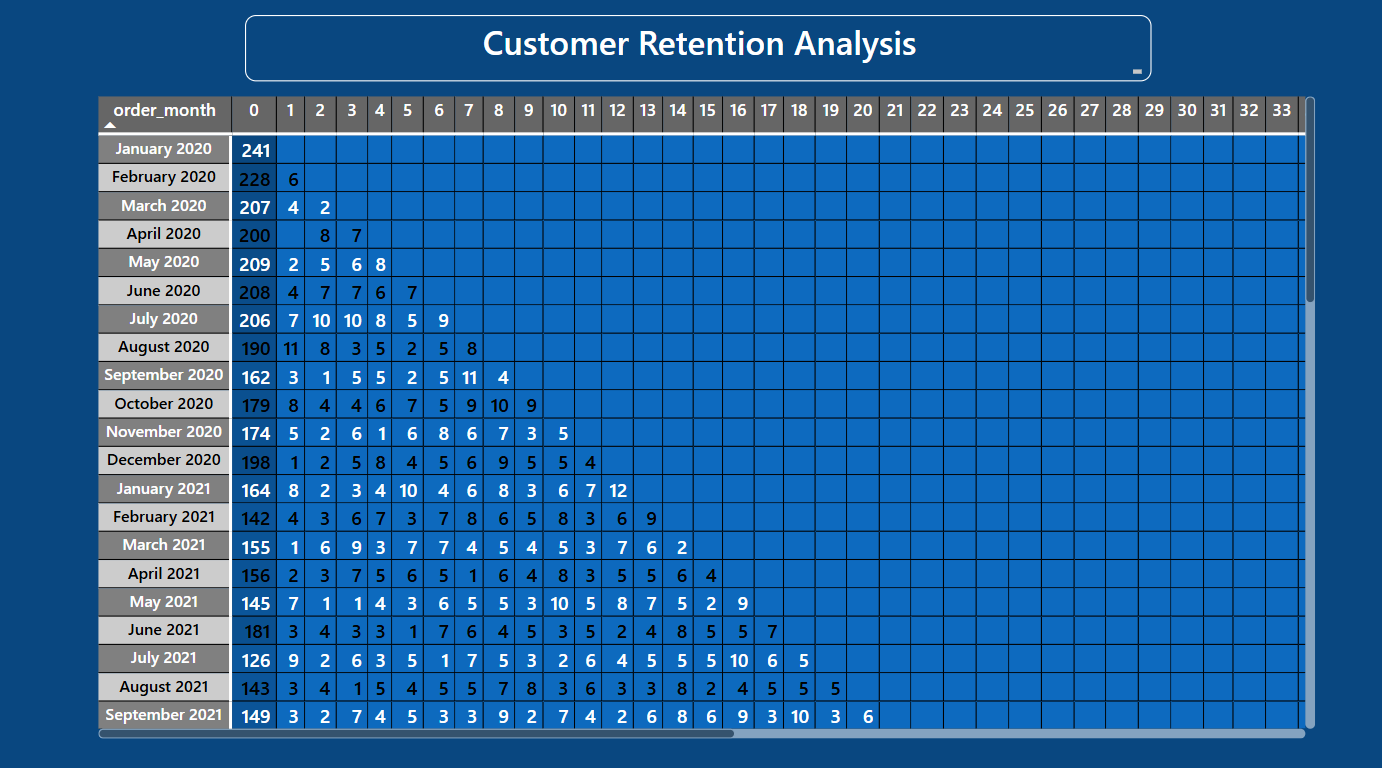

Layout of this report page (visuals, bound fields, positions):
{"tool":"powerbi","page":{"name":"Customer Retention Analysis","canvas":[1280,720],"ordinal":0},"visuals":[{"type":"pivotTable","fields":{"Values":["Count(customer_orders.customer_id)"],"Rows":["customer_orders.order_month"],"Columns":["customer_orders.CohortIndex"]},"box":[90.5,87.5,1127.7,599.9],"z":0},{"type":"textbox","title":"Customer Retention Analysis","box":[230.5,17.5,833.4,60.7],"z":1000}]}

Visuals, with their boxes in screenshot pixels (x1, y1, x2, y2), scaled from the page's 1280x720 canvas onto the 1382x768 screenshot:
pivotTable - Count(customer_orders.customer_id) x customer_orders.order_month: [x1=98, y1=93, x2=1315, y2=733]
"Customer Retention Analysis" textbox: [x1=249, y1=19, x2=1149, y2=83]
